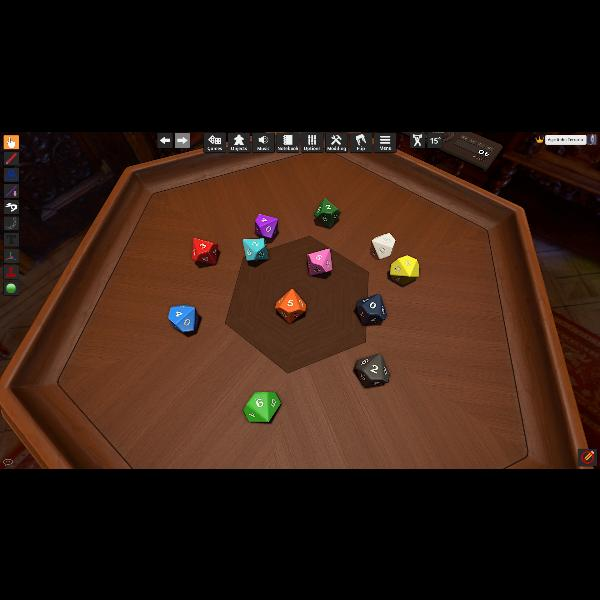d10: (353, 353, 388, 388), (244, 391, 280, 423), (275, 288, 305, 322), (354, 293, 384, 325), (168, 304, 199, 332), (392, 255, 420, 285), (315, 198, 341, 228), (306, 248, 332, 276), (192, 237, 216, 265), (371, 232, 395, 260), (254, 214, 278, 241), (245, 237, 270, 261)
